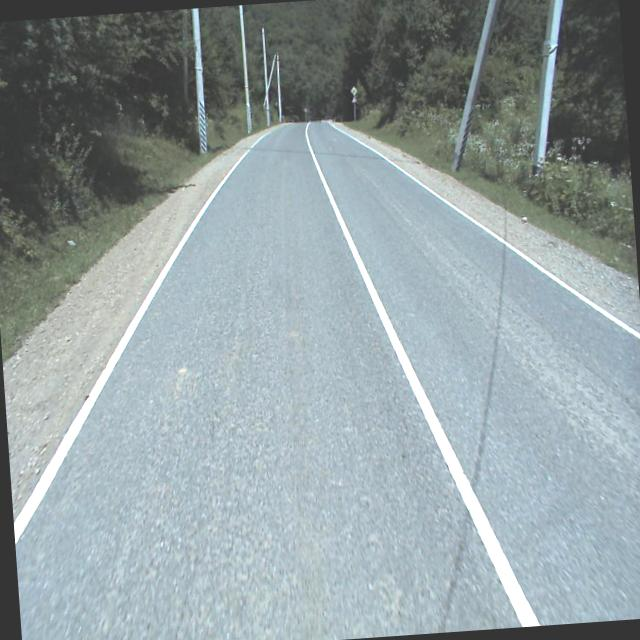road: (13, 120, 640, 640)
